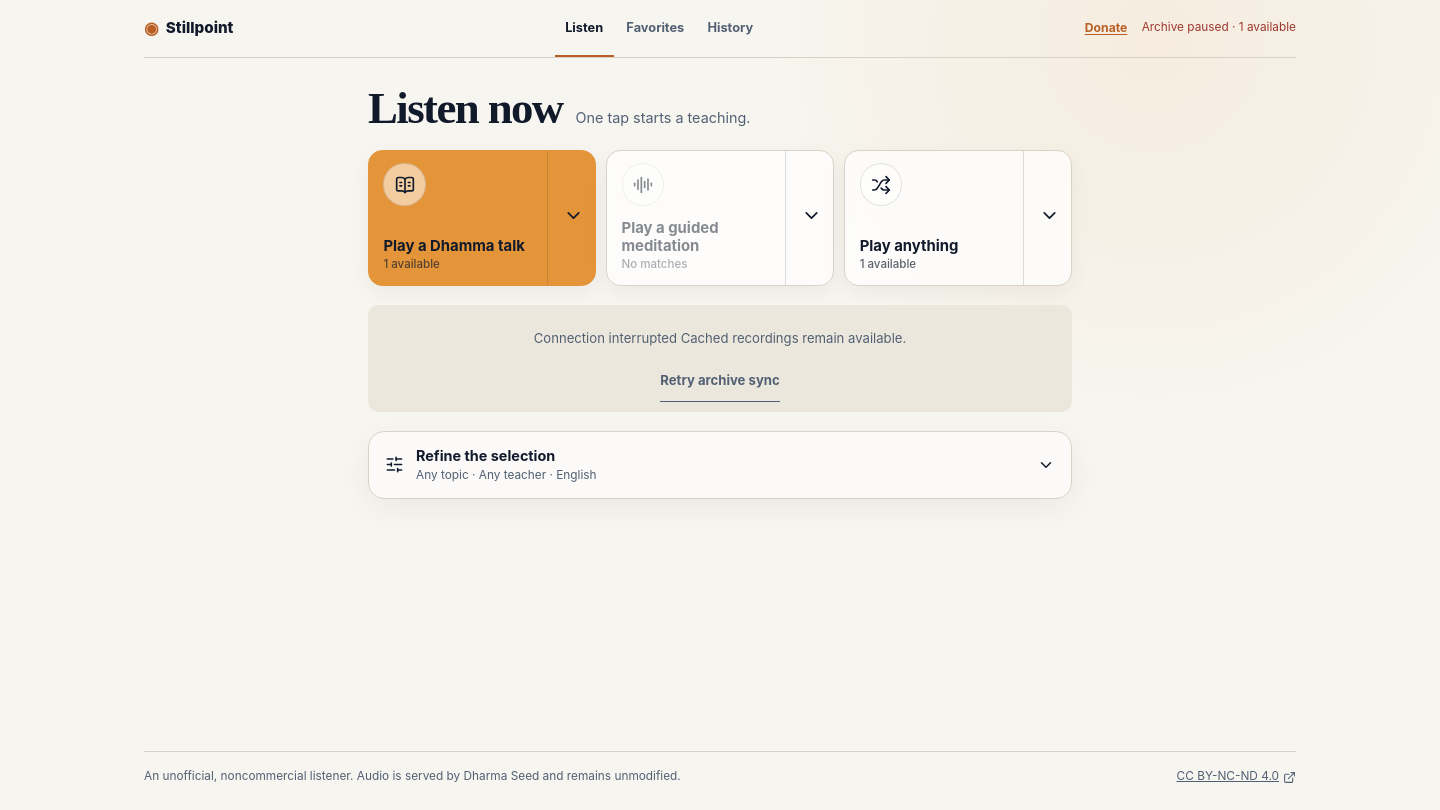
R9: exposes an error and retries without discarding cached listening
The image size is (1440, 810).
Expected: the message shows "Connection interrupted", [534,330,677,346]
Expected: the button "Play a Dhamma talk 1 available" is enabled, [369,151,547,285]
Click the button "Retry archive sync": [720, 382] box [660,362,780,402]
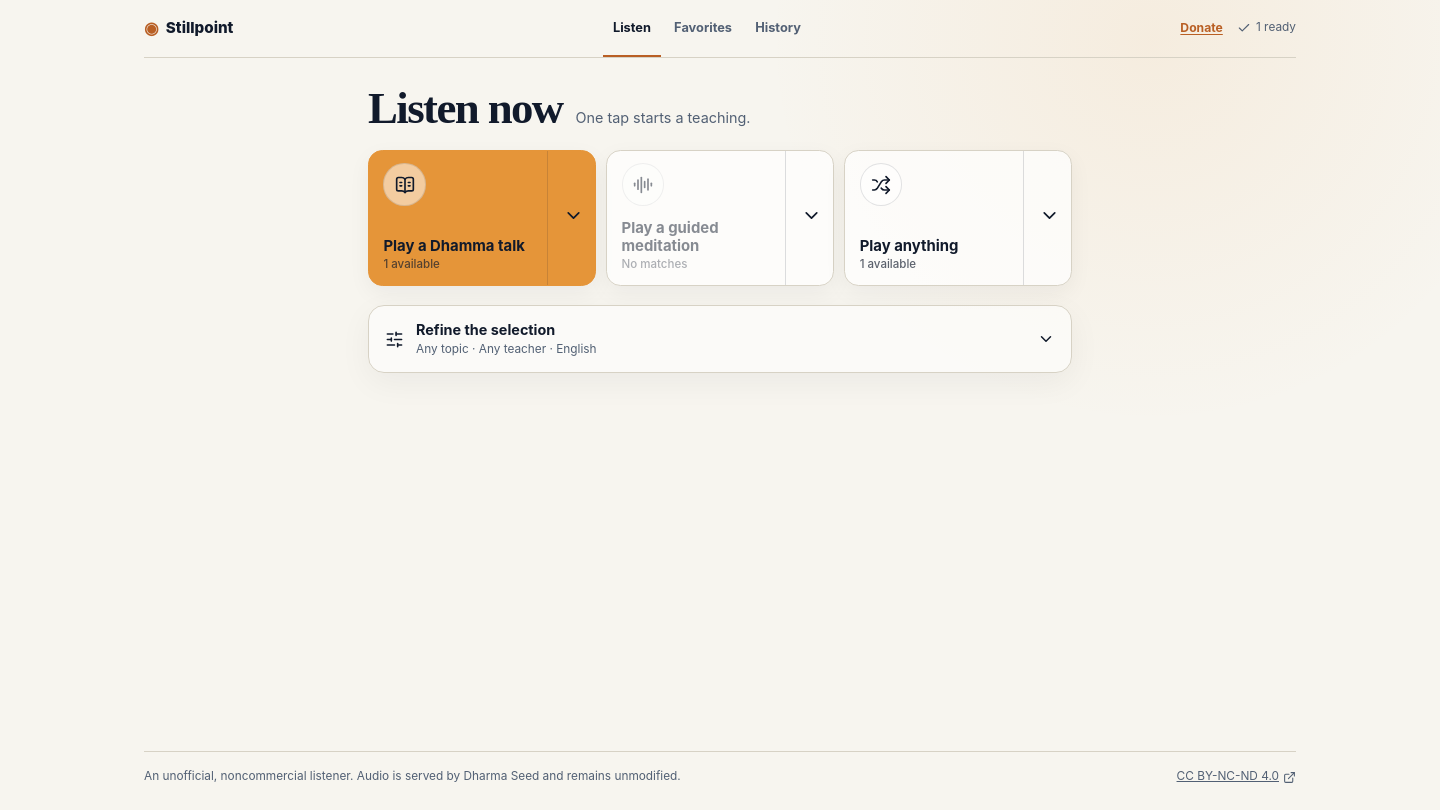
Expected: the text "1 ready" is shown, [1237,19,1296,37]
Expected: the message "Connection interrupted Cached recordings remain available. Retry archive sync" is gone
